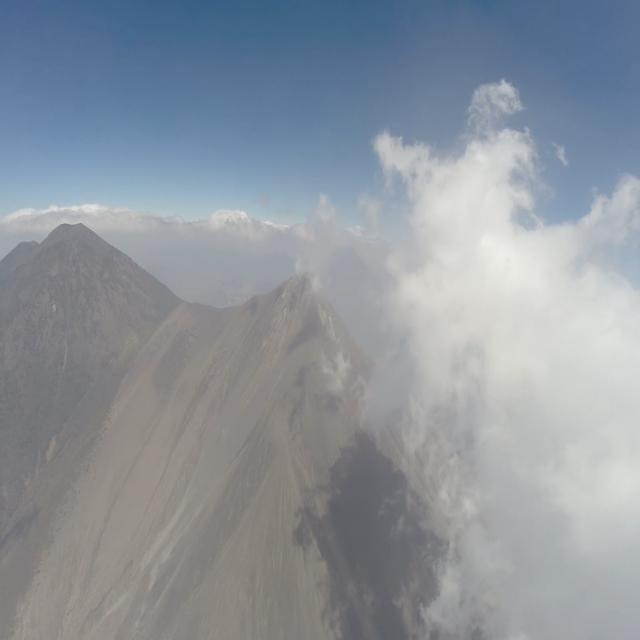Summit: (245, 268, 360, 354)
